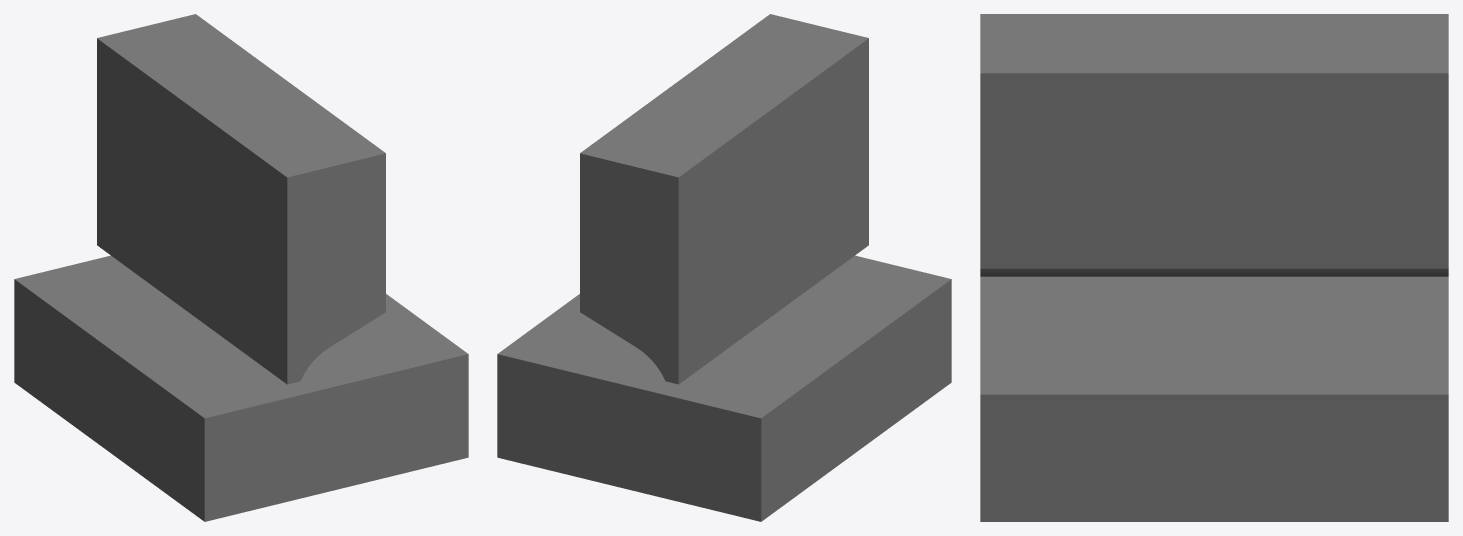
File: Т2_Кромки.glb
3 renders of one model, left to right at view 1: azimuth 30°, elevation 25°; view 2: azimuth 150°, elevation 25°; view 3: azimuth 270°, elevation 25°, orthographic. The views are drawn at different scales.
Parts seen in each view (by area): view 1: node_id3; view 2: node_id3; view 3: node_id3.
Part boxes in pixels (left/top/right/bottom): node_id3: left=14, top=14, right=468, bottom=521; node_id3: left=497, top=14, right=951, bottom=521; node_id3: left=980, top=14, right=1448, bottom=521.
Bounding box in the file's own units: 0.4357 × 0.512 × 0.5447.
1 material, 1 textured.
